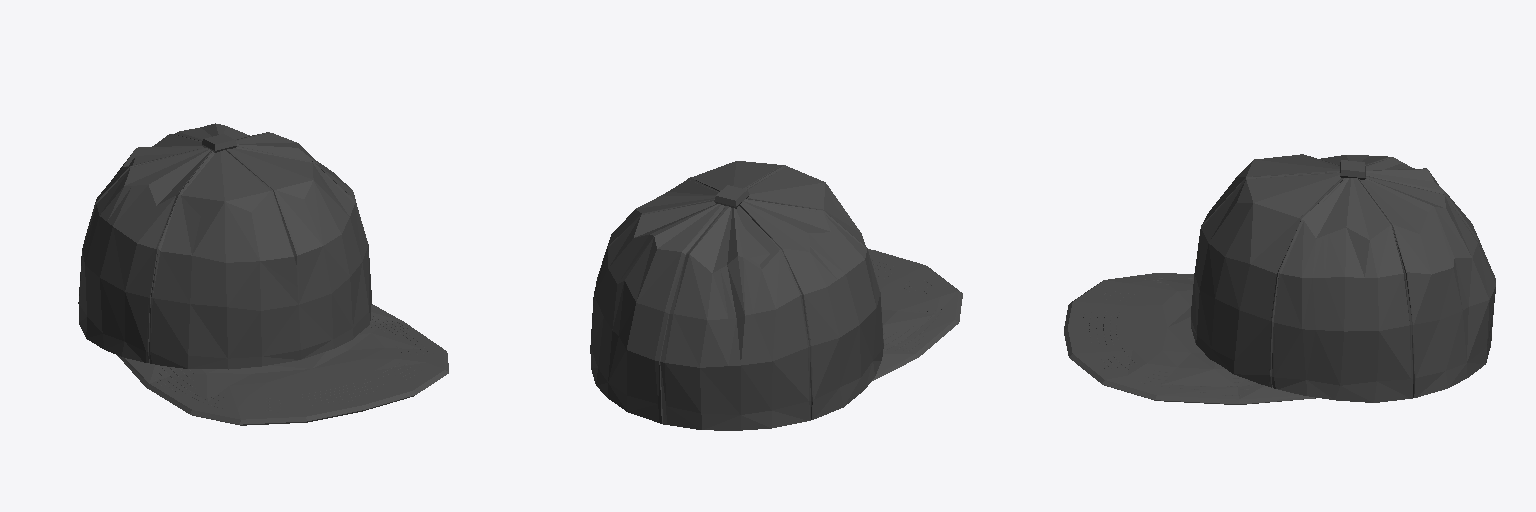
Rendered from thrasher_cap__corona.obj.
3 views of the same model, side by side, from view 1: azimuth 30°, elevation 25°; view 2: azimuth 150°, elevation 25°; view 3: azimuth 270°, elevation 25° (orthographic).
Parts seen in each view (by area): view 1: thrasher_cap_004, thrasher_cap_003; view 2: thrasher_cap_004, thrasher_cap_003, thrasher_cap_002; view 3: thrasher_cap_004, thrasher_cap_003.
Boxes of the visible parts, x1,y1,x2,y2 form: thrasher_cap_004: [78, 123, 371, 369]; thrasher_cap_003: [117, 304, 448, 425]; thrasher_cap_004: [590, 161, 883, 430]; thrasher_cap_003: [868, 249, 962, 381]; thrasher_cap_002: [714, 185, 749, 208]; thrasher_cap_004: [1191, 154, 1495, 402]; thrasher_cap_003: [1064, 273, 1315, 404].
Bounding box in the file's own units: 27.93 × 18.67 × 40.14.